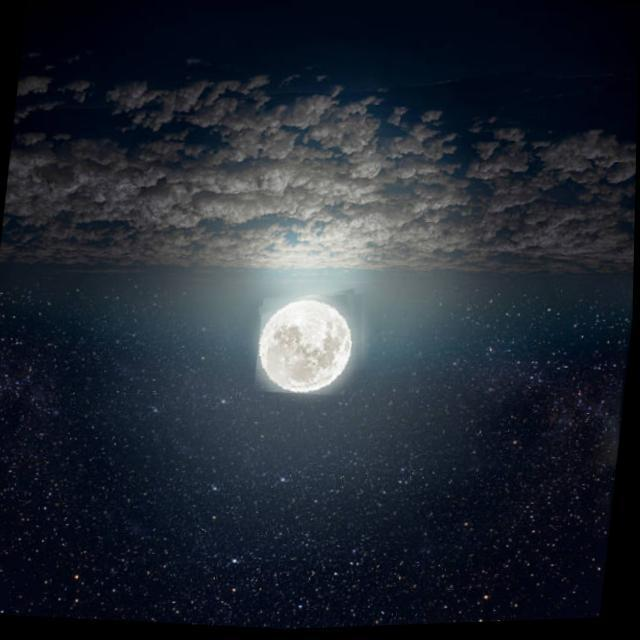moon: (255, 288, 372, 402)
